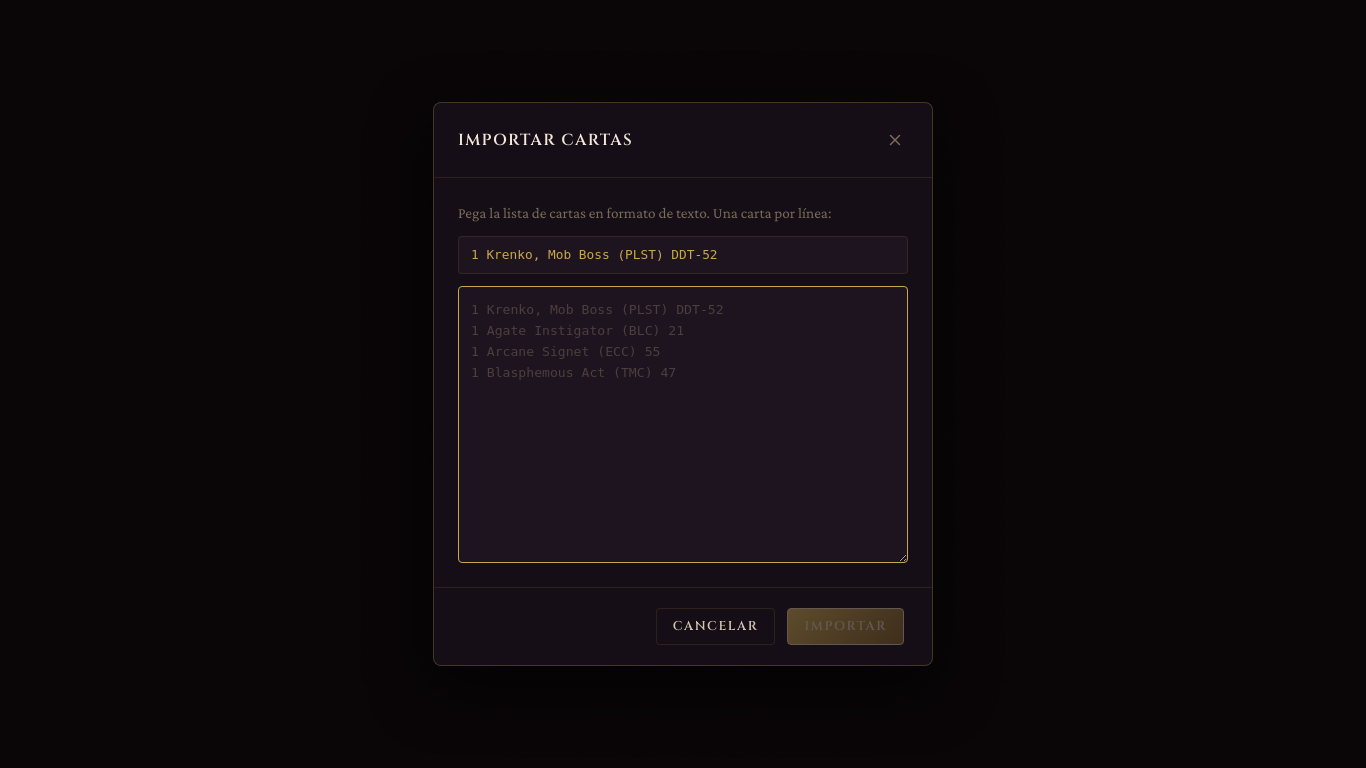
Test: ImportarMazoModal › muestra error si la importación falla
Type "1 X" into the text box with placeholder "Krenko" at {"x": 683, "y": 424}, box left=458, top=286, right=908, bottom=563
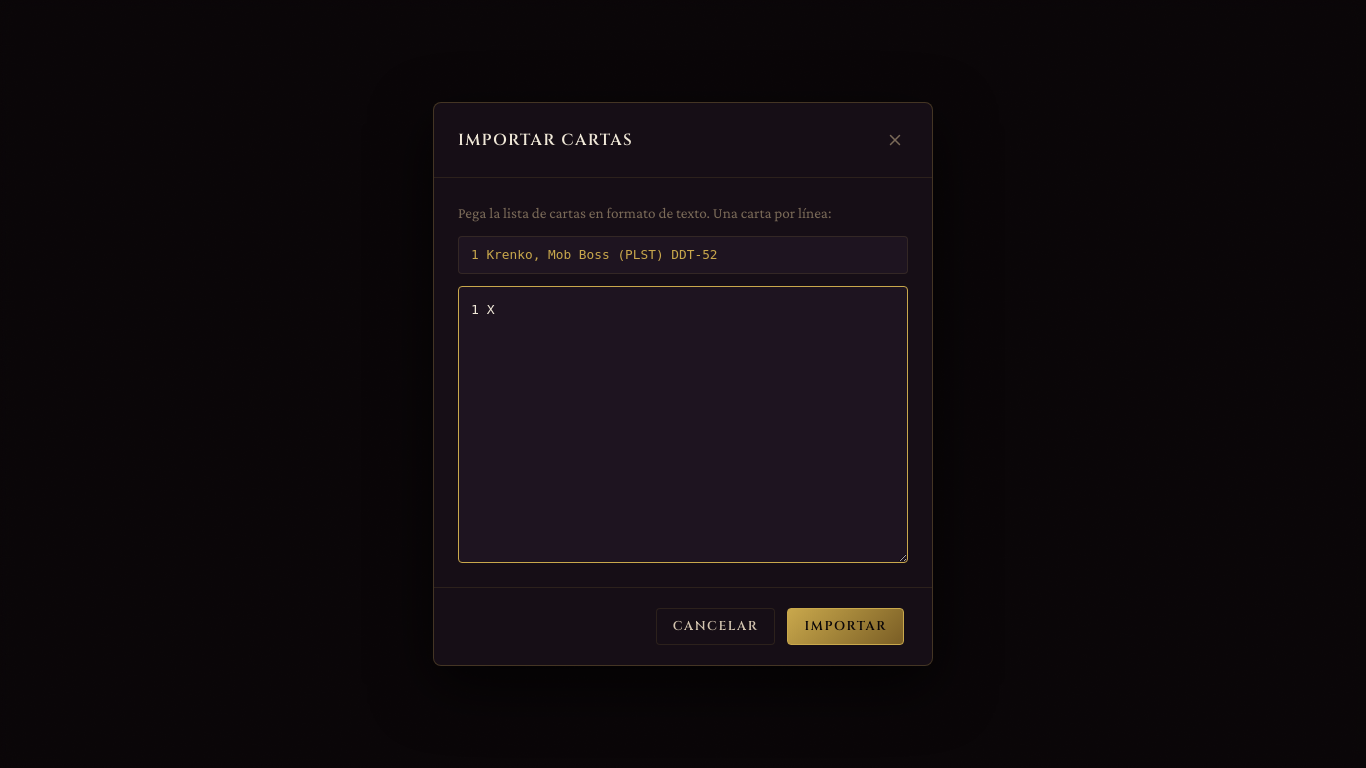
Click the button "Importar" at {"x": 846, "y": 627}, box left=788, top=608, right=904, bottom=645
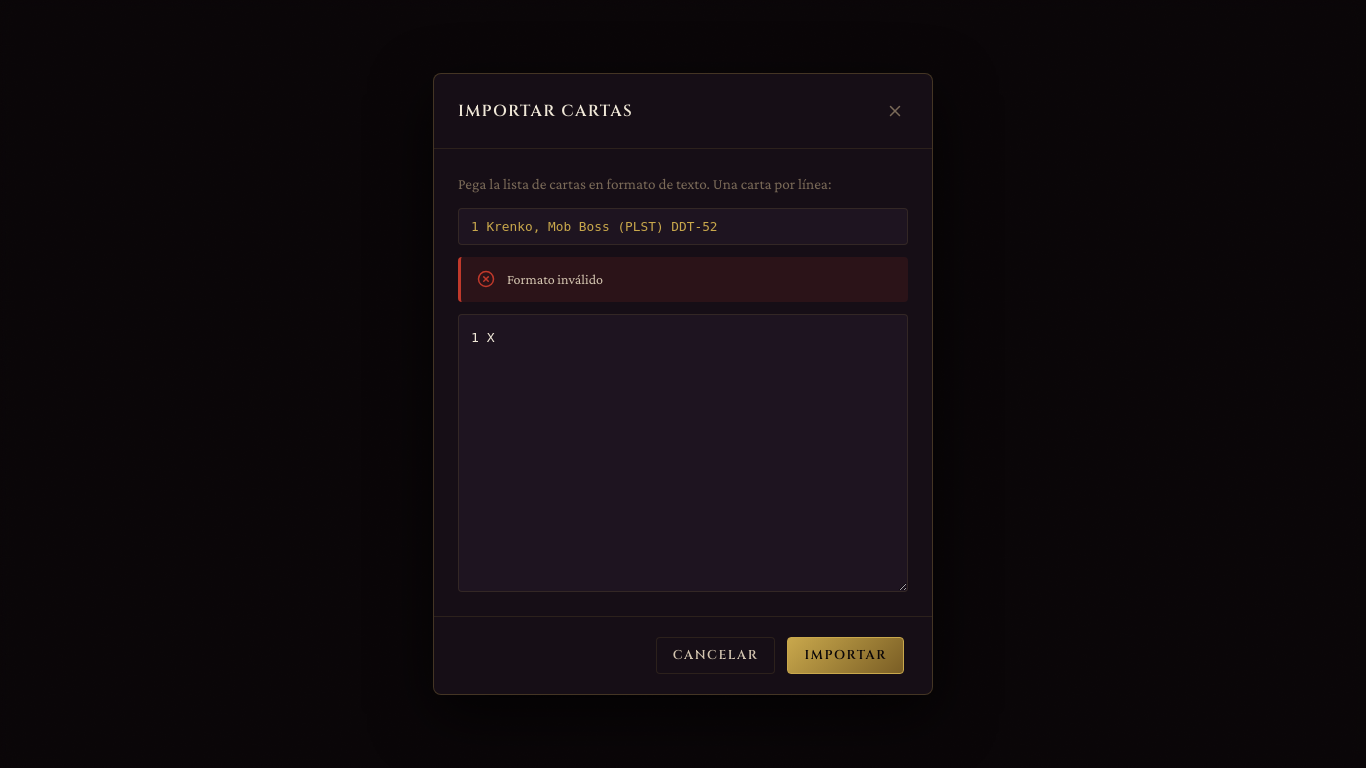
Now the text "Formato inválido" is shown, box left=507, top=269, right=603, bottom=290
